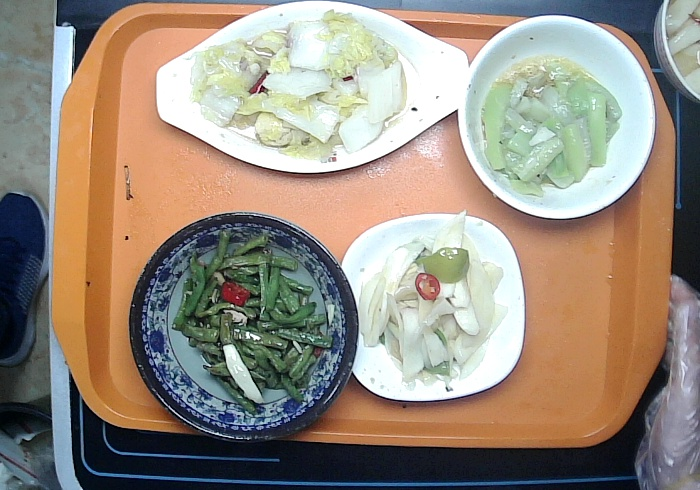ZNLD-Qing_Hua_Wan: (128, 212, 360, 445)
ZNLD-Si_Fang_Wan: (339, 209, 526, 399)
ZNLD-Tang_Wan: (455, 13, 655, 220)
ZNLD-Yu_Pan: (152, 7, 475, 180)
